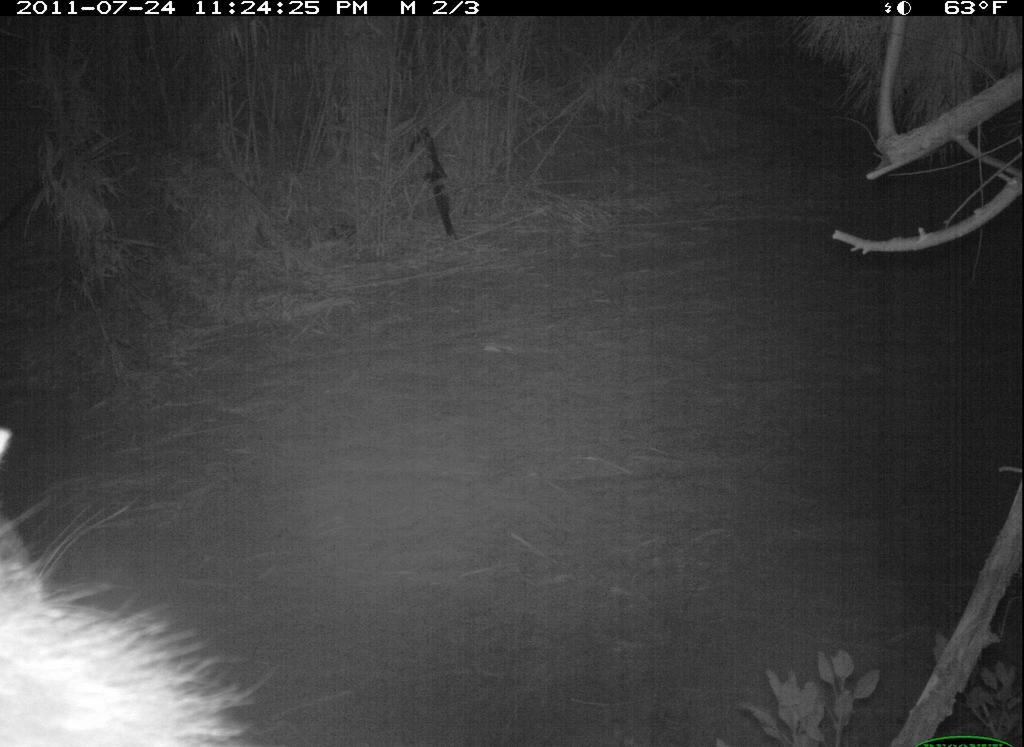raccoon: (2, 427, 285, 747)
